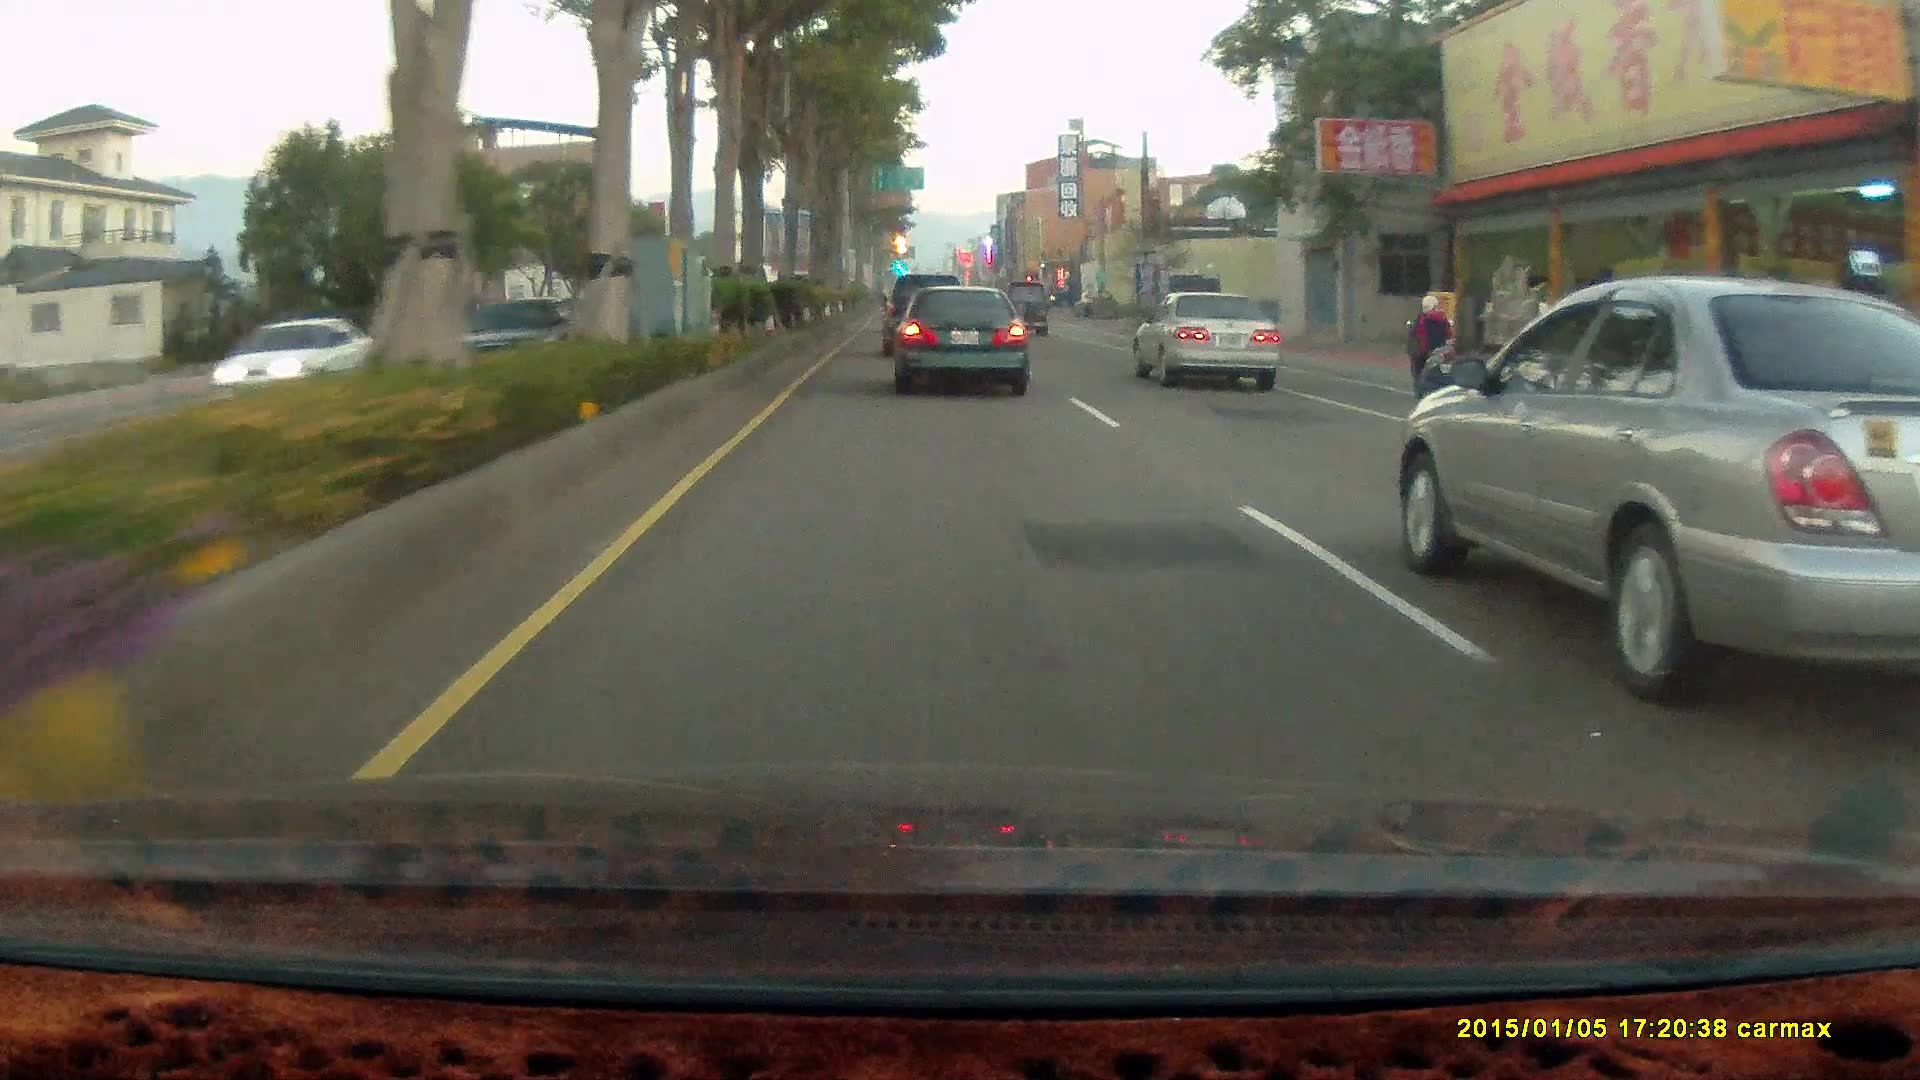rider: (1393, 287, 1471, 412), (1400, 292, 1463, 402)
vehicle: (1389, 289, 1920, 708), (890, 285, 1032, 400), (1138, 291, 1290, 395), (889, 284, 1029, 396), (207, 317, 381, 403), (1130, 290, 1279, 390), (205, 320, 387, 397), (453, 297, 597, 362), (883, 273, 973, 360), (881, 282, 963, 362), (1153, 276, 1221, 340), (1001, 279, 1049, 337)
